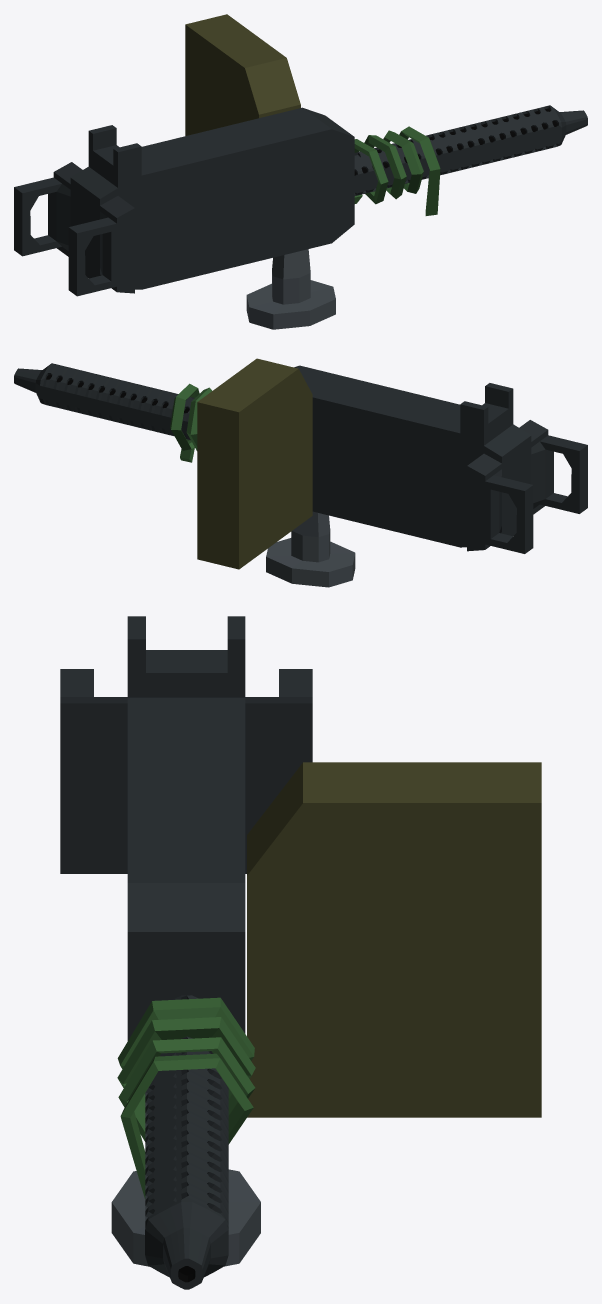
Rendered from SM_Gunmachine_03.fbx.
3 renders of one model, top to bottom at view 1: azimuth 30°, elevation 25°; view 2: azimuth 150°, elevation 25°; view 3: azimuth 270°, elevation 25°, orthographic. The views are drawn at different scales.
Parts seen in each view (by area): view 1: SM_Gunmachine_03; view 2: SM_Gunmachine_03; view 3: SM_Gunmachine_03.
Boxes of the visible parts, <box> form: SM_Gunmachine_03: <box>14,14,587,329</box>; SM_Gunmachine_03: <box>14,358,587,587</box>; SM_Gunmachine_03: <box>60,616,541,1289</box>.
Size of the model in its own units: 69.57 by 28.03 by 26.94.
